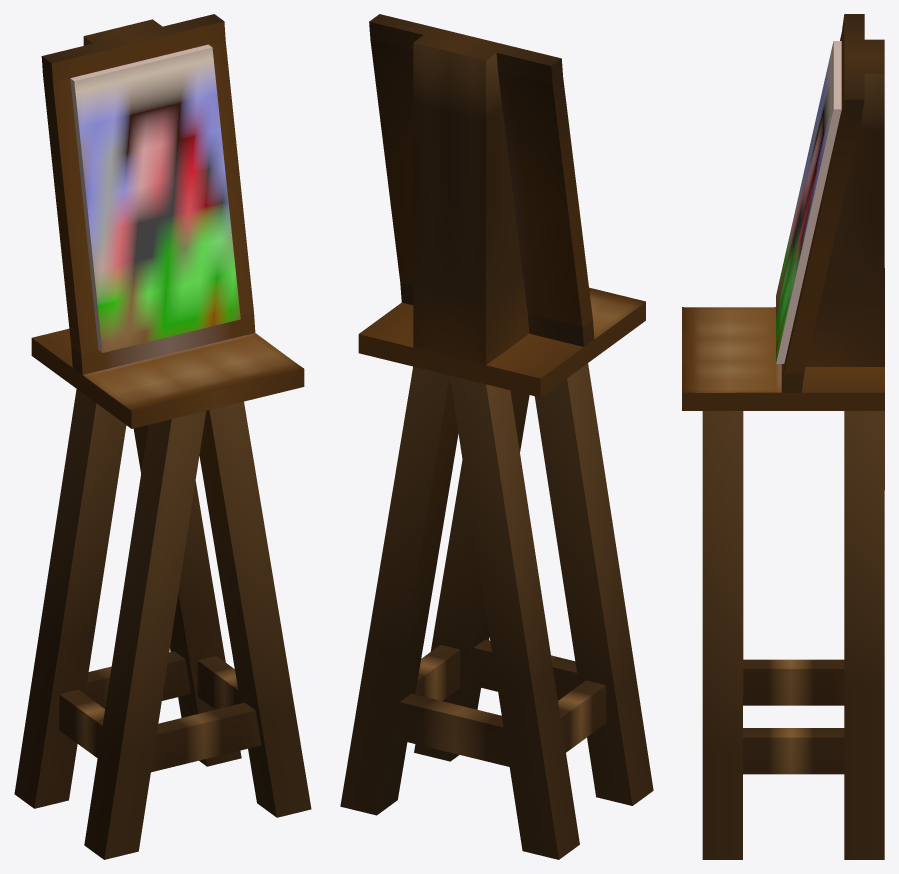
File: easel_837x07.obj
3 renders of one model, left to right at view 1: azimuth 30°, elevation 25°; view 2: azimuth 150°, elevation 25°; view 3: azimuth 270°, elevation 25°, orthographic. The views are drawn at different scales.
Visible parts, largest first — view 1: Easel_837x7; view 2: Easel_837x7; view 3: Easel_837x7.
Boxes of the visible parts, x1,y1,x2,y2 form: Easel_837x7: (14,14,311,859); Easel_837x7: (340,14,653,859); Easel_837x7: (682,14,884,859).
Size of the model in its own units: 1.2 by 4.1 by 1.
